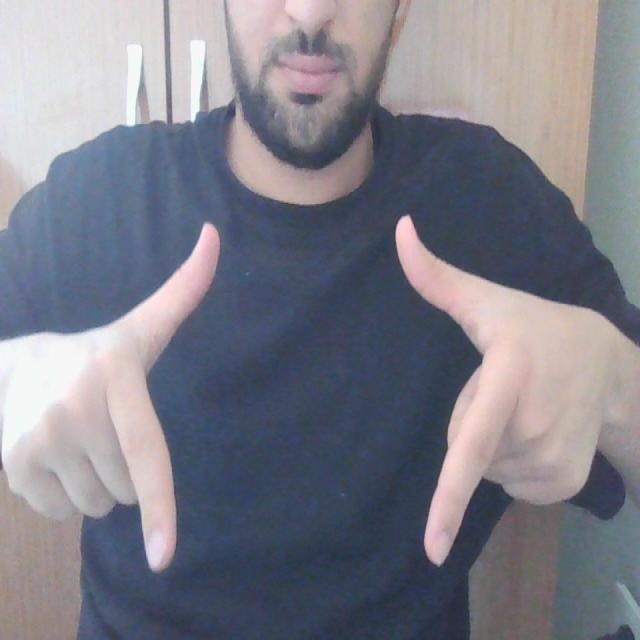Nerede: (99, 214, 529, 575)
